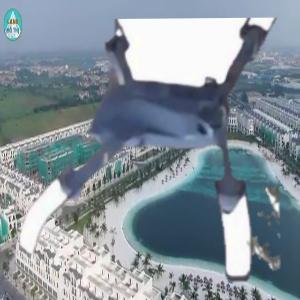drone: (4, 20, 282, 298)
